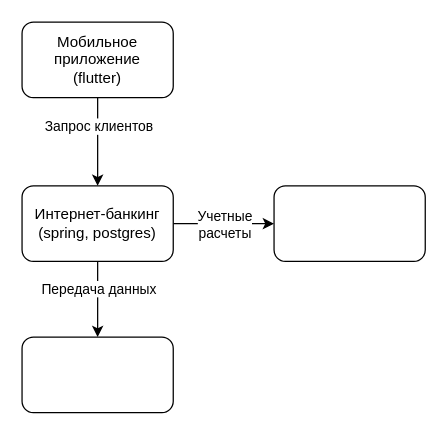
Image size: 447x435. Some labels were removed from this diagram. The shapes that lost their labels are listed below. From the top down, each one's centre as x and y in pixels, then its label:
At [349,223]: "АБС (oracle, psql)".
At [97,374]: "Интерфейс кол-центра (react, spring)".
